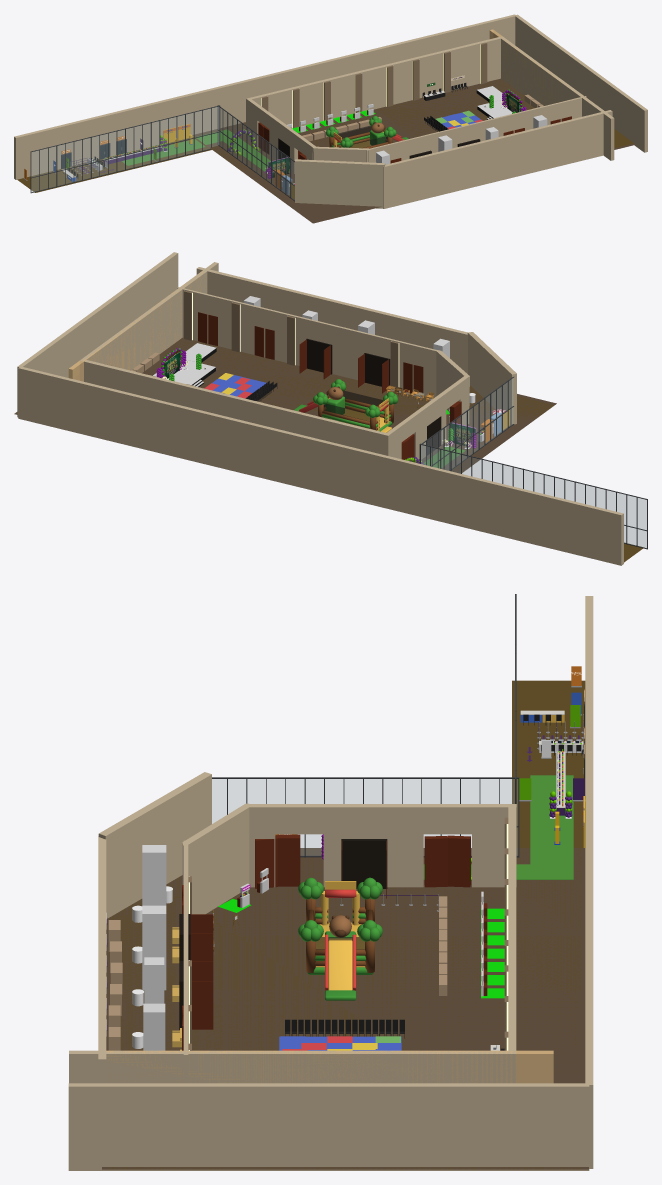
File: tot-manila-v2.glb
3 views of the same model, one above another, from view 1: azimuth 30°, elevation 25°; view 2: azimuth 150°, elevation 25°; view 3: azimuth 270°, elevation 25° (orthographic). The views are drawn at different scales.
Visible parts, largest first — view 1: Top Wall.001, Bottom Wall.001, Top Wall.002, Glass Wall, Floor, Right Wall.001, Left Wall.002, Right Wall, Bottom Wall.003, Floor.001, Glass Wall West, Left Wall (+10 smaller); view 2: Top Wall.001, Floor, Bottom Wall.003, Top Wall.002, Bottom Wall.001, Right Wall.001, Glass Wall, Right Wall, Floor.001, Glass Wall West, Left Wall, Left Wall.002 (+8 smaller); view 3: Floor, Right Wall.001, Floor.001, Right Wall, Left Wall, Glass Wall West, Right Wall.002, Left Wall.002, Floor.002, Bottom Wall.002, Top Wall.001, Door 1 (+14 smaller).
Part boxes in pixels (x1,y1,x2,y2): Top Wall.001: (14,14,515,179); Bottom Wall.001: (383,110,612,208); Top Wall.002: (247,37,500,128); Glass Wall: (31,107,218,191); Floor: (192,78,635,223); Right Wall.001: (514,14,647,152); Left Wall.002: (295,159,385,208); Right Wall: (500,36,614,160); Bottom Wall.003: (366,96,586,163); Floor.001: (195,79,633,217); Glass Wall West: (218,107,294,199); Left Wall: (246,98,315,173); Top Wall.001: (18,367,623,565); Floor: (14,337,556,473); Bottom Wall.003: (177,287,442,398); Top Wall.002: (83,360,388,454); Bottom Wall.001: (196,267,467,373); Right Wall.001: (17,252,178,417); Glass Wall: (421,445,646,547); Right Wall: (80,262,218,380); Floor.001: (144,339,554,432); Glass Wall West: (421,378,513,469); Left Wall: (384,376,467,462); Left Wall.002: (467,332,516,424); Floor: (102,848,588,1169); Right Wall.001: (68,1083,589,1170); Floor.001: (109,848,581,1169); Right Wall: (69,1050,516,1083); Left Wall: (249,804,516,887); Glass Wall West: (212,779,517,855); Right Wall.002: (106,1050,553,1083); Left Wall.002: (98,772,211,918); Floor.002: (512,680,585,847); Bottom Wall.002: (182,803,253,914); Top Wall.001: (585,596,593,1168); Door 1: (424,835,470,887).
Bounding box in the file's own units: 97.45 × 8.01 × 43.55.
672 materials, 1 textured.
